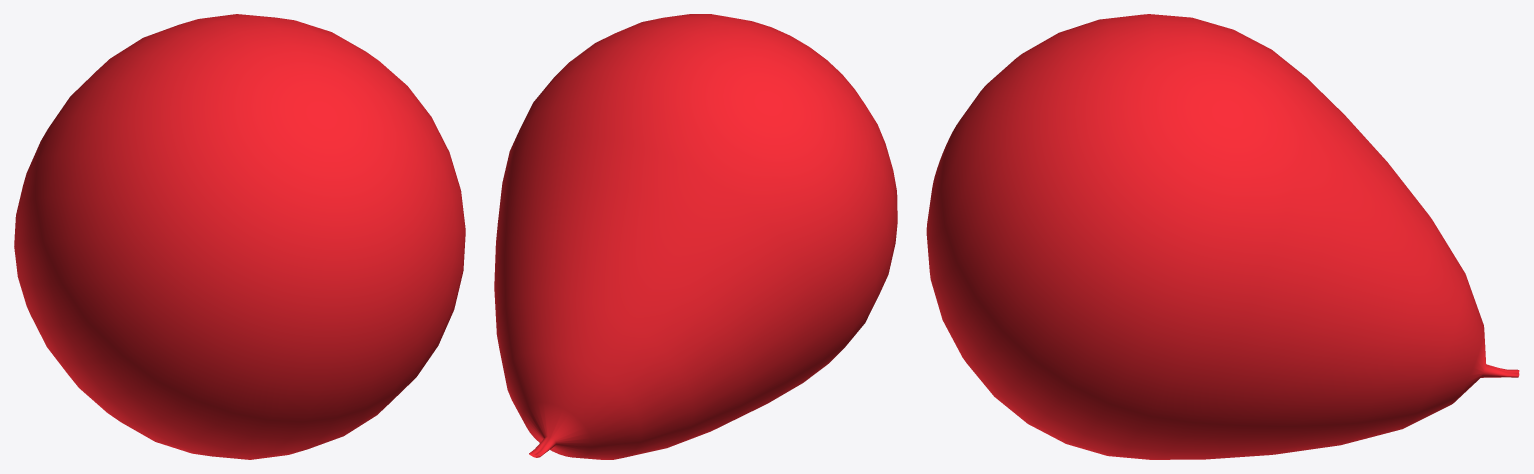
The model's file is balloon.fbx.
3 renders of one model, left to right at view 1: azimuth 30°, elevation 25°; view 2: azimuth 150°, elevation 25°; view 3: azimuth 270°, elevation 25°, orthographic. The views are drawn at different scales.
Visible parts, largest first — view 1: Balloon; view 2: Balloon; view 3: Balloon.
Part boxes in pixels (x1,y1,x2,y2): Balloon: (14, 14, 465, 459); Balloon: (494, 14, 897, 459); Balloon: (926, 14, 1519, 459).
Bounding box in the file's own units: 54.82 × 72.73 × 55.05.
